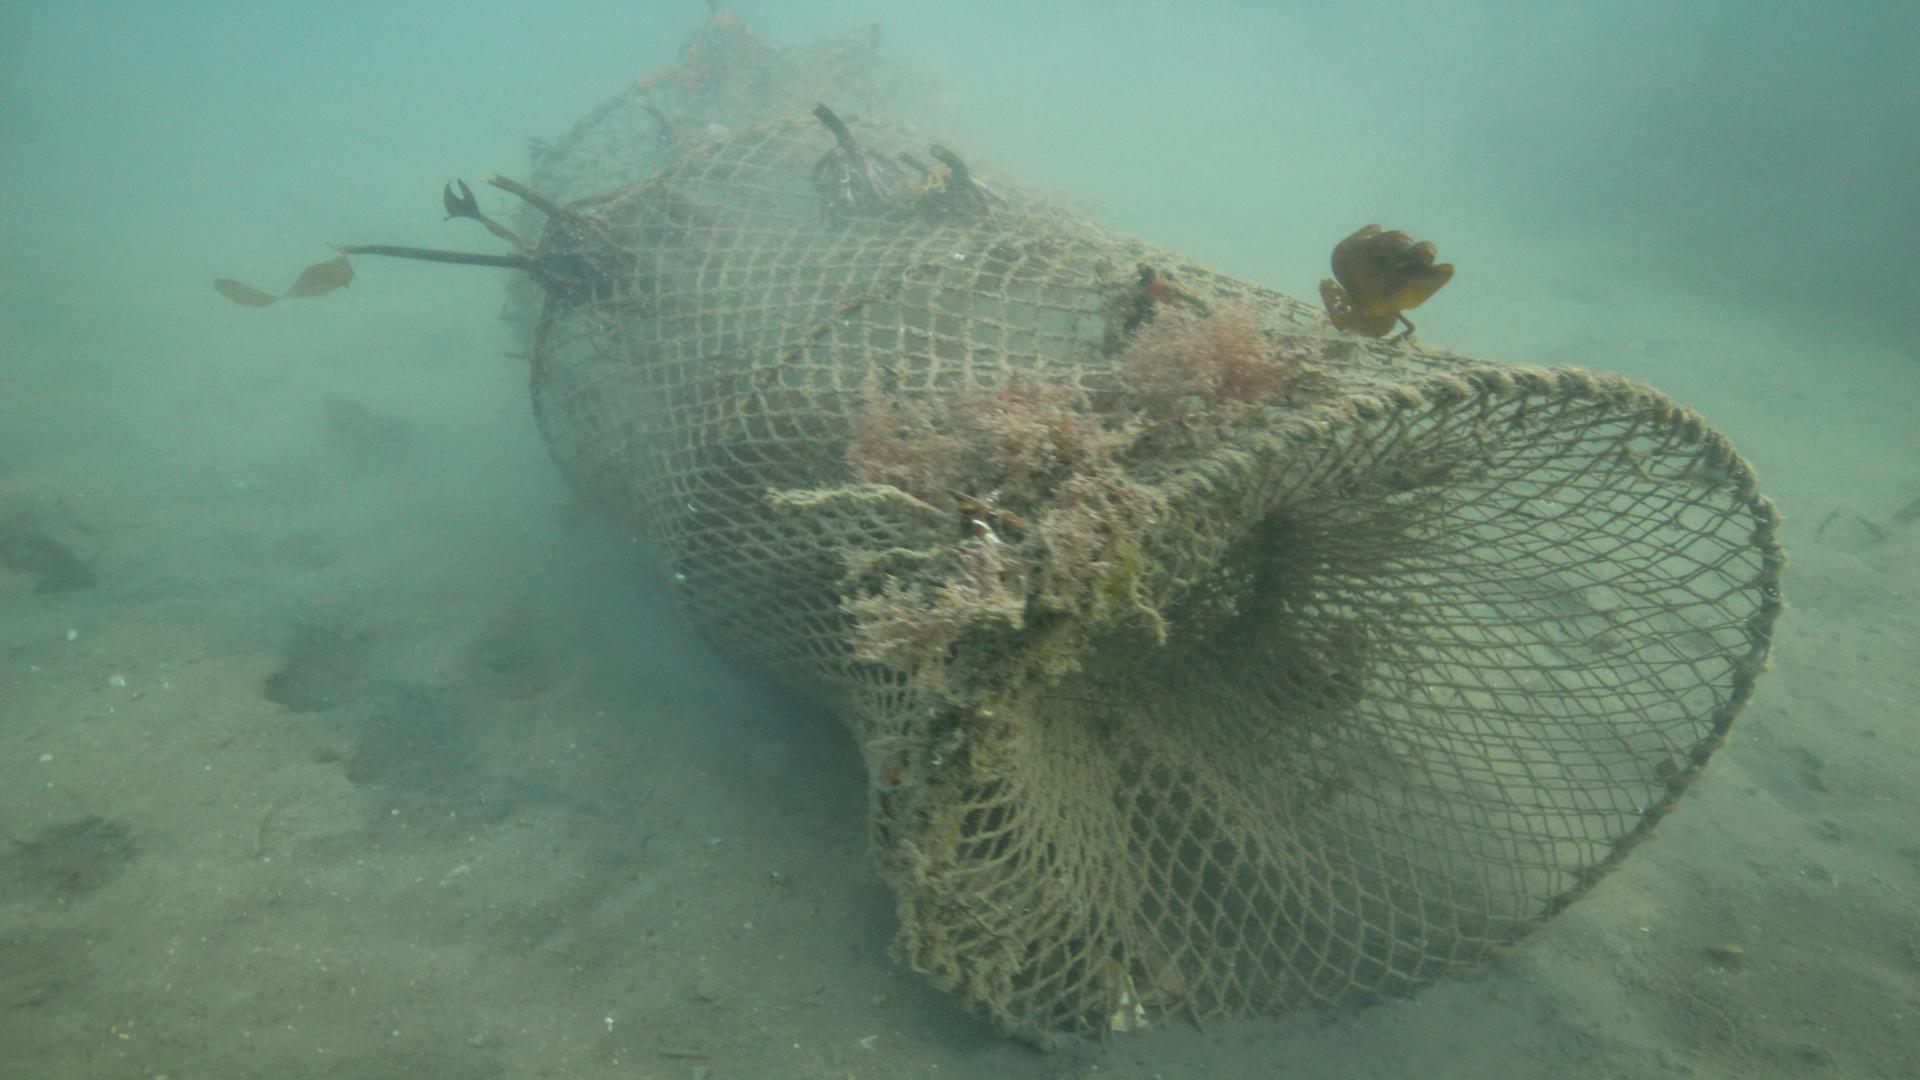spring fish trap: (500, 0, 1785, 1056)
